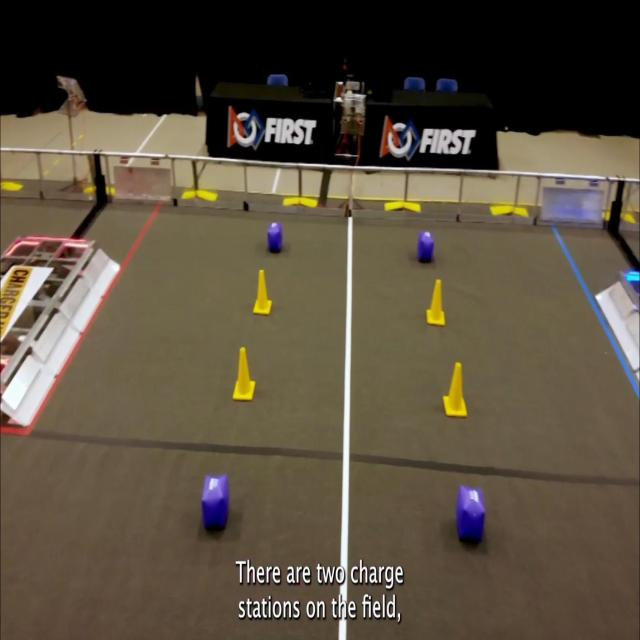frc_cone: (442, 362, 468, 417), (233, 346, 255, 402), (426, 279, 446, 326), (252, 268, 272, 314)
frc_cube: (455, 485, 485, 547), (200, 474, 229, 530), (417, 231, 434, 264), (267, 222, 283, 252)
